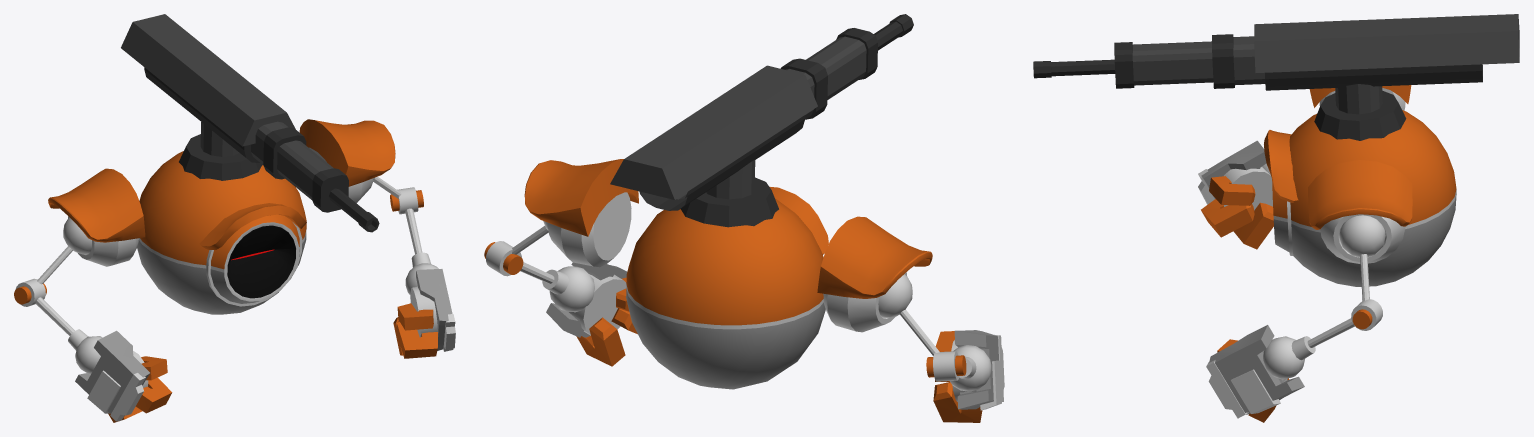
File: Enemy_Flying_Gun.obj
The picture shows the model from 3 angles, left to right: view 1: azimuth 30°, elevation 25°; view 2: azimuth 150°, elevation 25°; view 3: azimuth 270°, elevation 25°; orthographic projection. The views are drawn at different scales.
Parts seen in each view (by area): view 1: Enemy_Flying_Gun; view 2: Enemy_Flying_Gun; view 3: Enemy_Flying_Gun.
Boxes of the visible parts, x1,y1,x2,y2 form: Enemy_Flying_Gun: [14, 14, 455, 422]; Enemy_Flying_Gun: [484, 14, 1004, 422]; Enemy_Flying_Gun: [1033, 14, 1519, 422].
Size of the model in its own units: 1.29 by 0.8725 by 1.23.
